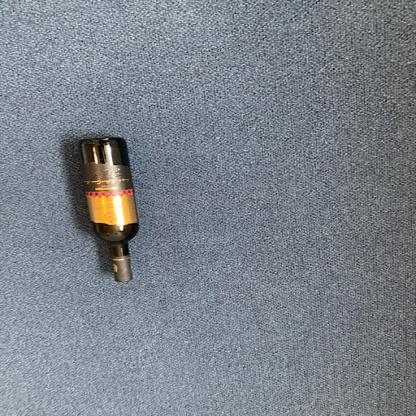trash: (75, 135, 142, 285)
